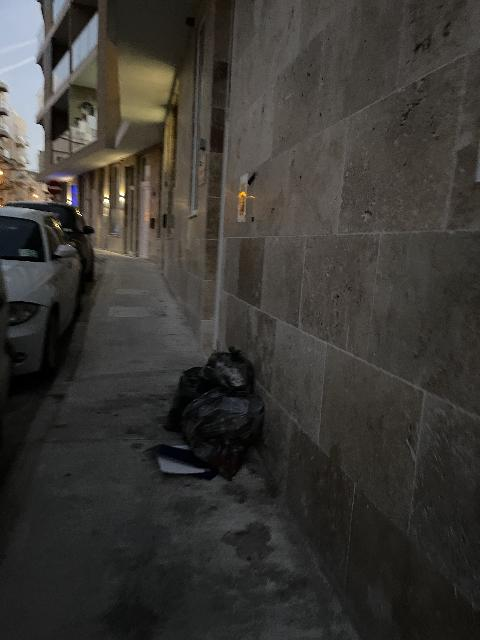Mixed -Black-: (181, 388, 264, 480), (166, 366, 215, 431), (201, 348, 254, 392), (230, 363, 235, 370)
Other: (149, 444, 217, 479)
